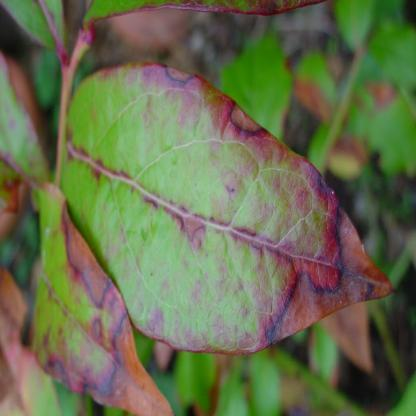Blueberry leaf: (61, 72, 404, 360)
